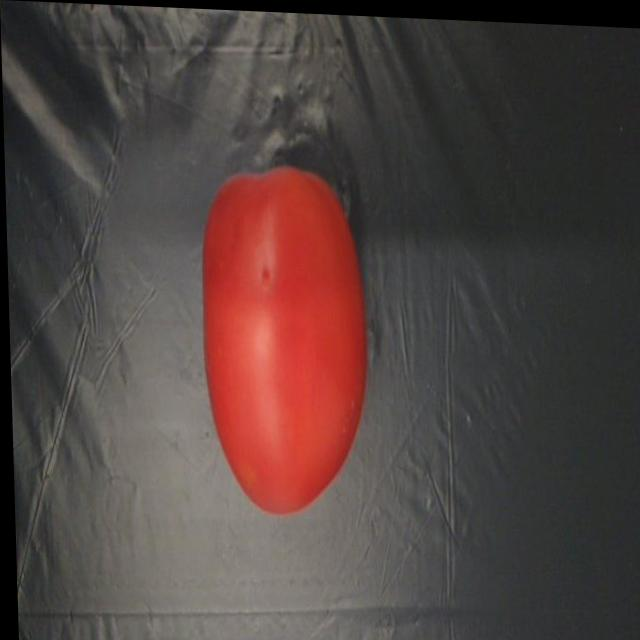kirmizi: (131, 118, 408, 532)
